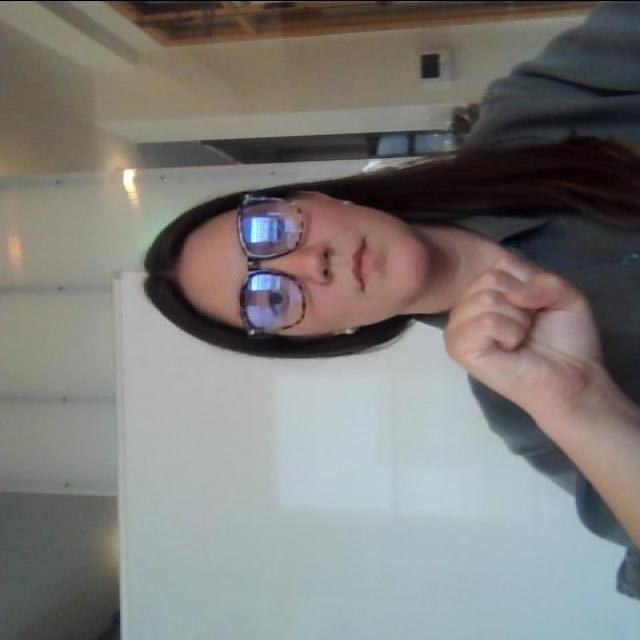Rock: (427, 251, 629, 426)
